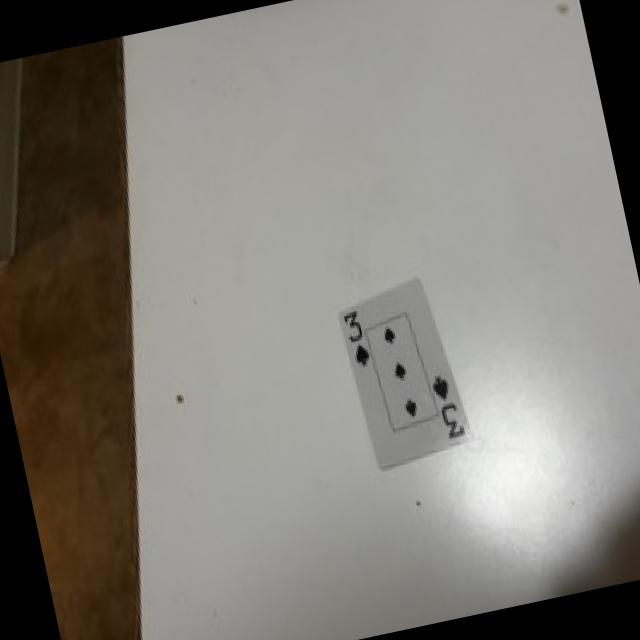3 of spades: (339, 277, 469, 465)
